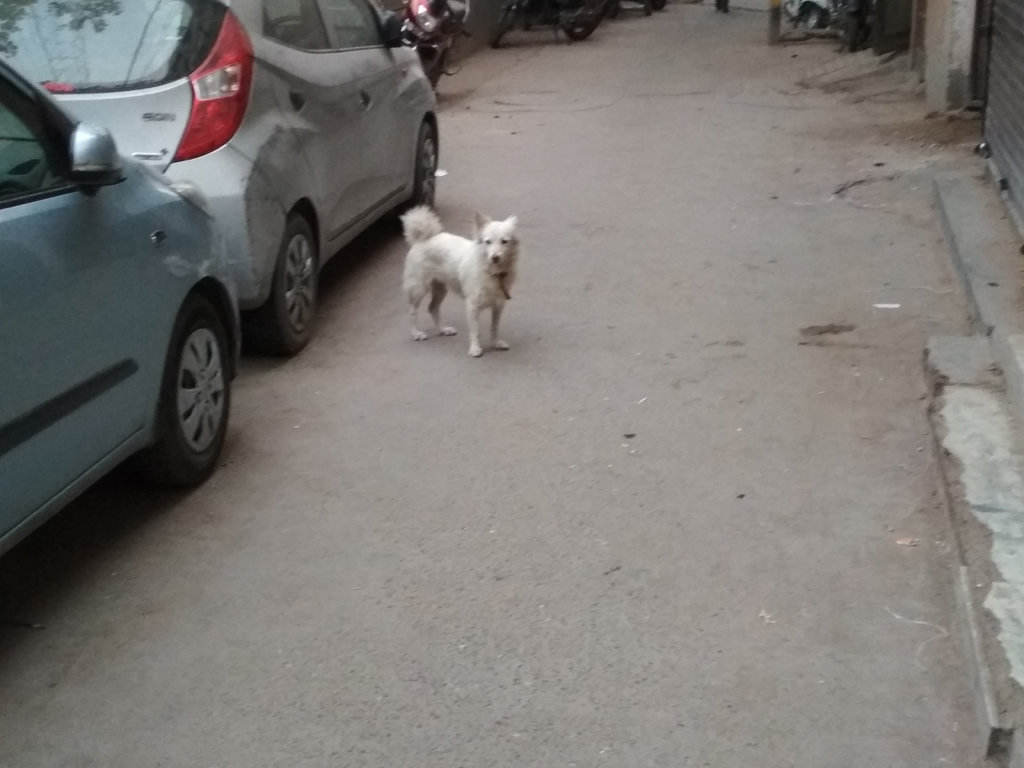dog: (396, 204, 522, 357)
